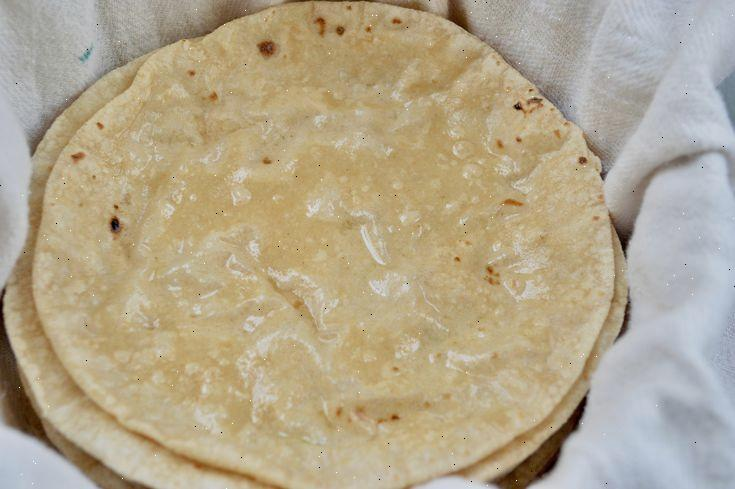roti phulka: (6, 4, 630, 488)
